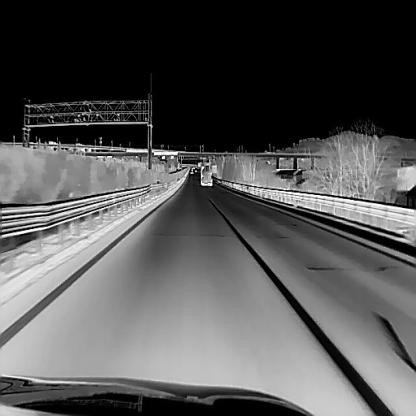truck: (199, 164, 212, 185)
